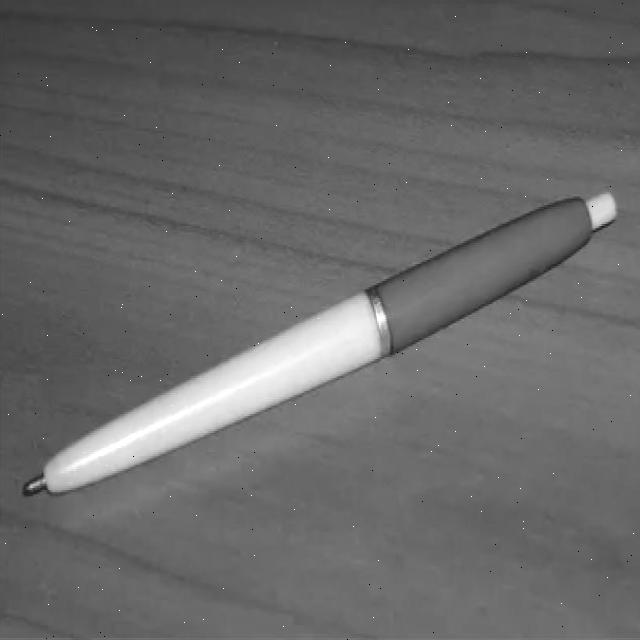pencil: (9, 179, 635, 502)
